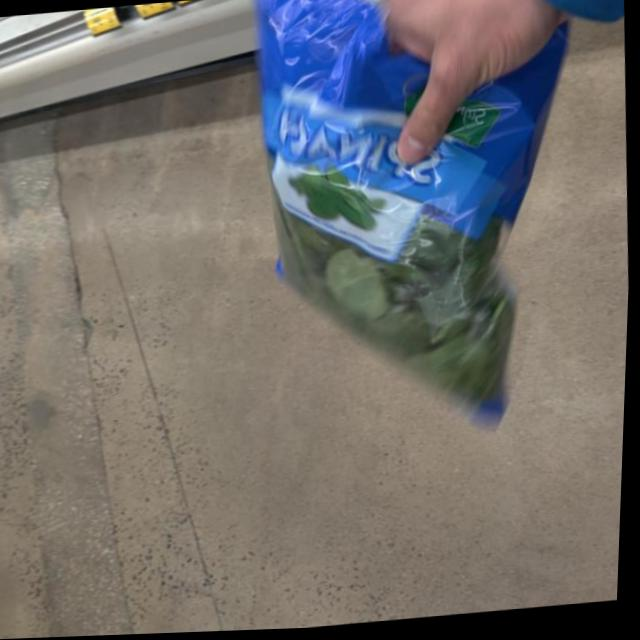Salad: (236, 0, 551, 474)
